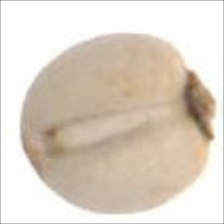L5: (20, 97, 181, 160), (180, 66, 218, 145)
L6: (19, 31, 218, 216)
